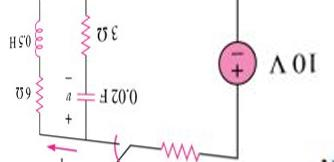resistor: (151, 134, 207, 161), (70, 11, 93, 58), (29, 73, 51, 119)
